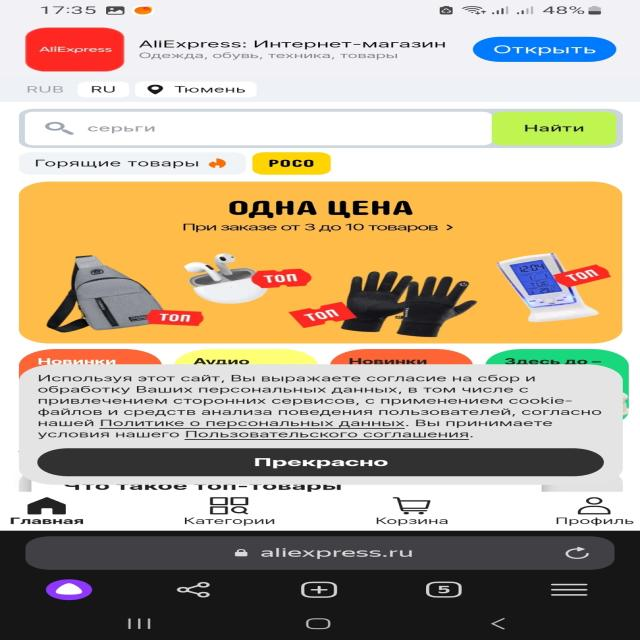button: (37, 448, 604, 477), (472, 36, 617, 62)
site: (19, 366, 626, 485), (2, 23, 640, 76)
